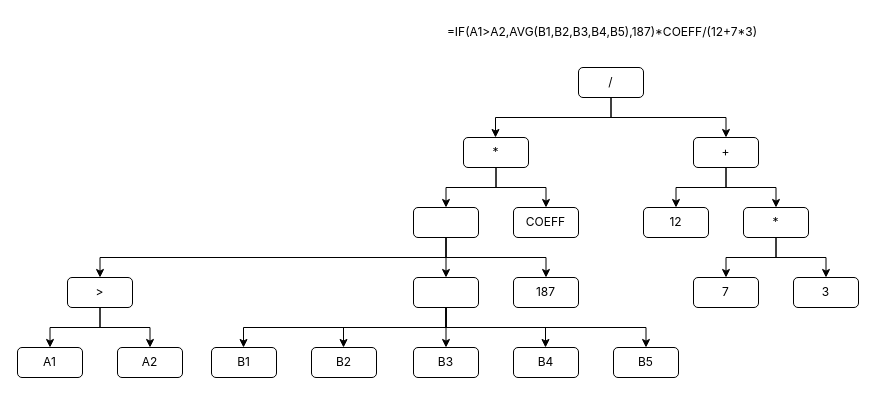
Some shapes in this 876 by 395 pixel diagram are drawn without their labels. The centre of each missing label's shape, as x and y in pixels:
"AVG" belongs at (445,292).
"IF" belongs at (445,222).
